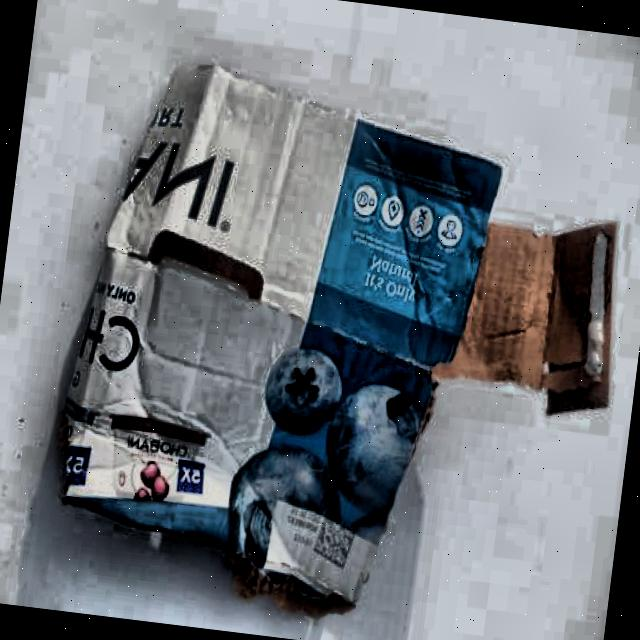cardboard: (41, 50, 640, 640)
